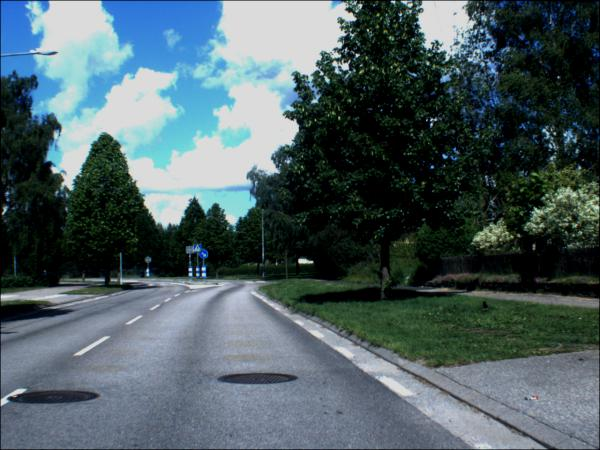PASS_RIGHT_SIDE: (200, 250, 211, 261)
PEDESTRIAN_CROSSING: (195, 245, 204, 255)
